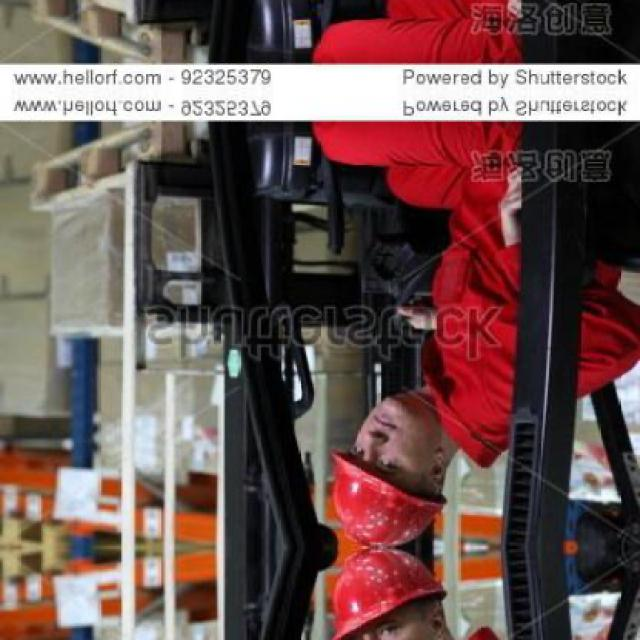con casco: (318, 400, 457, 526)
